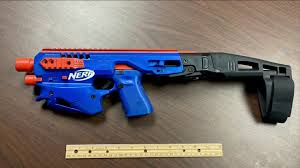gun: (12, 44, 183, 118)
